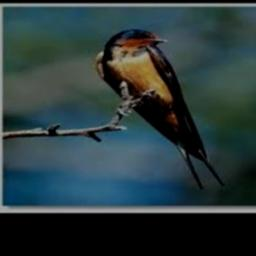Swallow: (95, 29, 225, 189)
